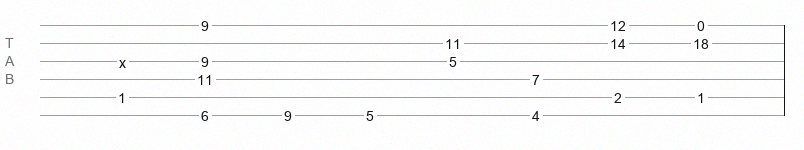0: (697, 18, 705, 28)
1: (118, 90, 126, 100), (697, 90, 705, 100)
11: (197, 72, 213, 82), (445, 36, 461, 46)
12: (610, 18, 626, 28)
14: (610, 36, 626, 46)
18: (693, 36, 709, 46)
2: (614, 90, 622, 100)
4: (532, 108, 540, 118)
5: (366, 108, 374, 118), (449, 54, 457, 64)
6: (201, 108, 209, 118)
7: (532, 72, 540, 82)
9: (201, 18, 209, 28), (201, 54, 209, 64), (284, 108, 292, 118)
x: (119, 55, 126, 63)
